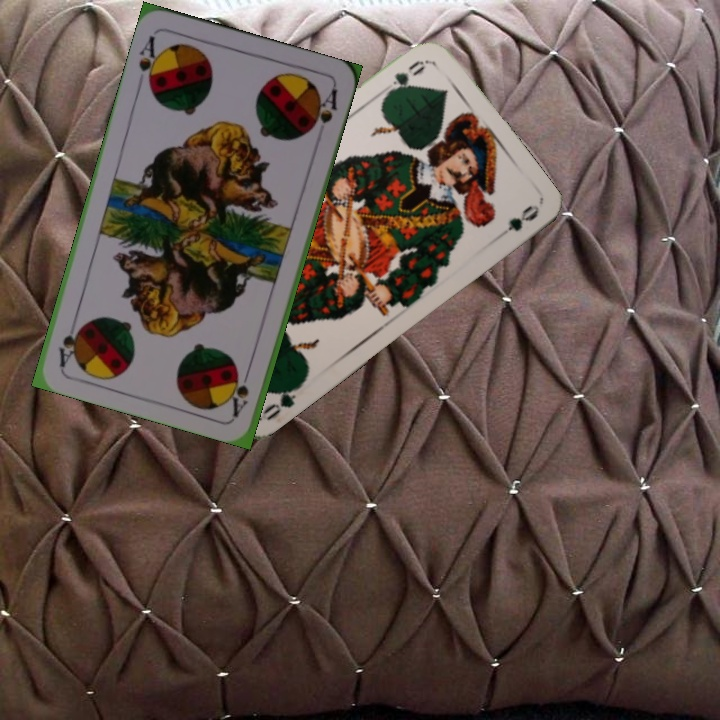GO: (258, 377, 307, 423), (381, 56, 430, 100)
SA: (134, 31, 164, 91), (228, 361, 255, 419)
